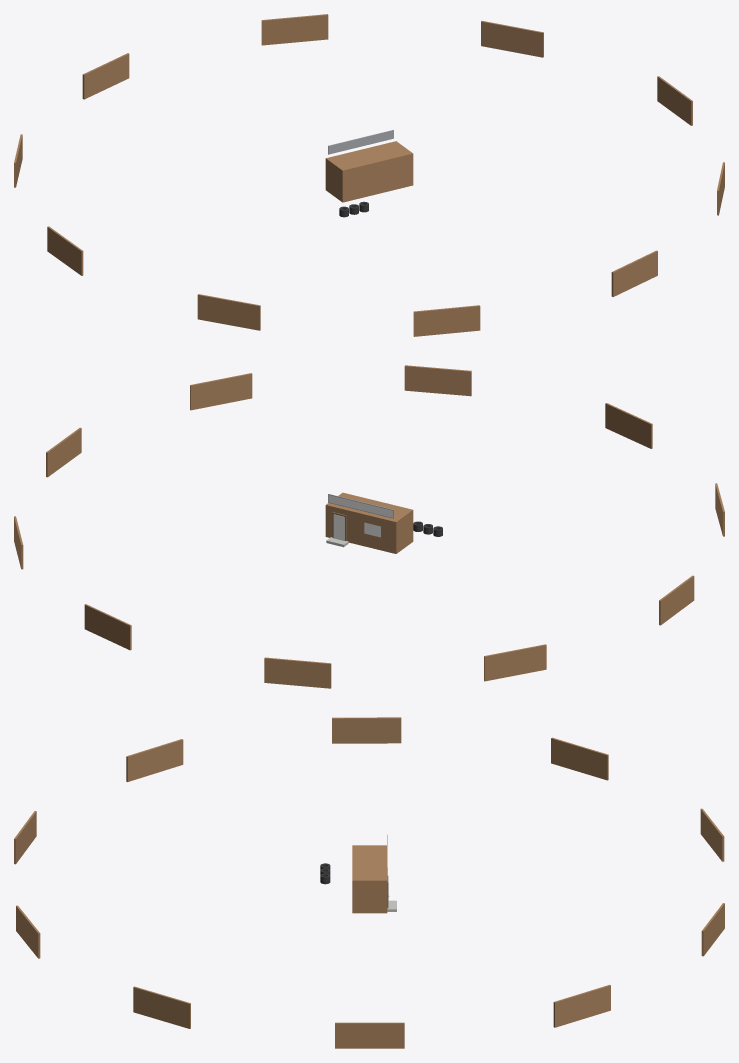
File: junkyard_office.glb
3 views of the same model, one above another, from view 1: azimuth 30°, elevation 25°; view 2: azimuth 150°, elevation 25°; view 3: azimuth 270°, elevation 25° (orthographic). The views are drawn at different scales.
Parts seen in each view (by area): view 1: junkyard_office; view 2: junkyard_office; view 3: junkyard_office.
Part boxes in pixels (bbox=[...]): junkyard_office: bbox=[14, 14, 724, 336]; junkyard_office: bbox=[14, 365, 724, 688]; junkyard_office: bbox=[14, 717, 724, 1048].
Size of what is drawn, in the model's own units: 52.17 by 3.65 by 51.23.
